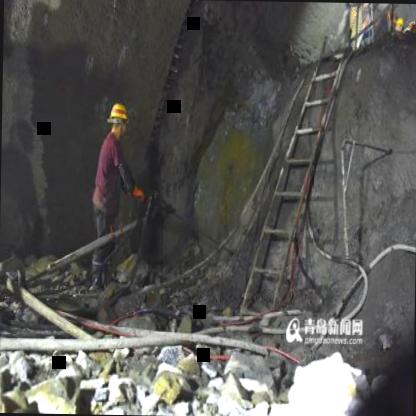helmet: (107, 99, 129, 141)
